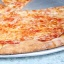pizza: (1, 1, 64, 51)
